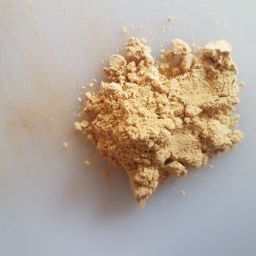Ginger powder: (74, 11, 243, 197), (38, 57, 222, 216), (116, 85, 209, 153)
